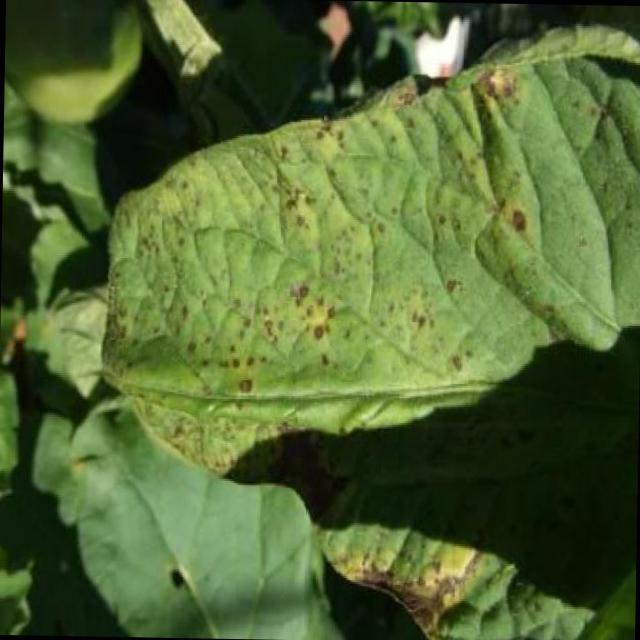Tomato leaf bacterial spot: (104, 42, 640, 474)
